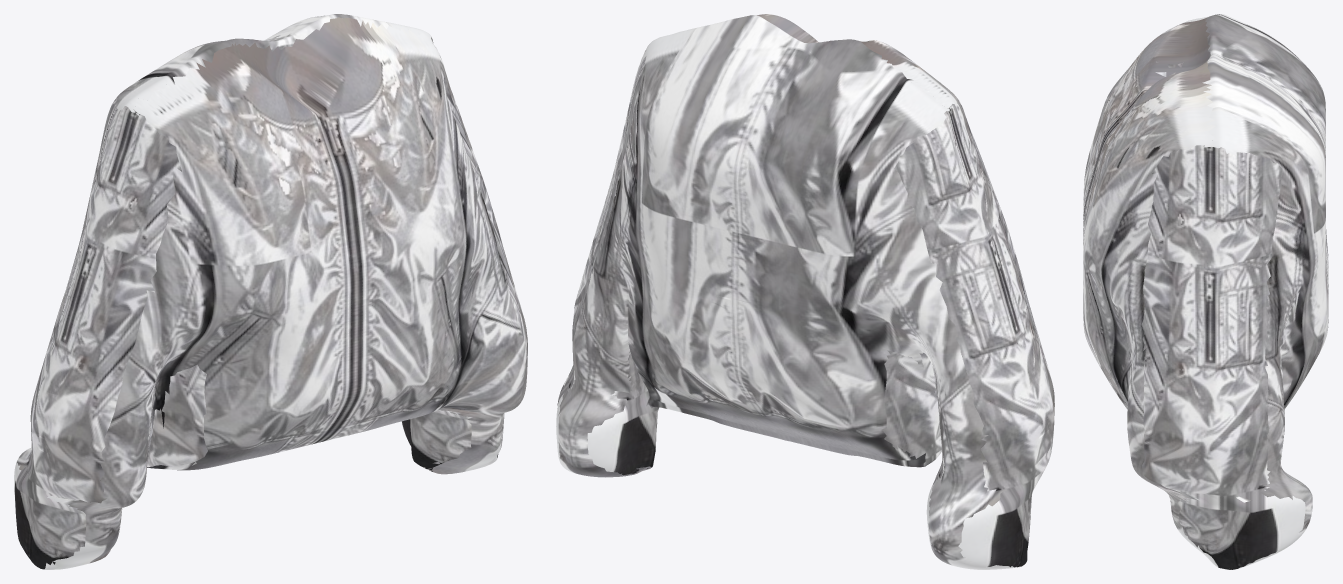
The model's file is NF002-photo-v4.glb.
3 views of the same model, side by side, from view 1: azimuth 30°, elevation 25°; view 2: azimuth 150°, elevation 25°; view 3: azimuth 270°, elevation 25° (orthographic). The views are drawn at different scales.
Parts seen in each view (by area): view 1: NF002_worn_photo_fitted; view 2: NF002_worn_photo_fitted; view 3: NF002_worn_photo_fitted.
Boxes of the visible parts, x1=… form: NF002_worn_photo_fitted: x1=14, y1=14, x2=527, y2=569; NF002_worn_photo_fitted: x1=556, y1=14, x2=1054, y2=569; NF002_worn_photo_fitted: x1=1083, y1=14, x2=1328, y2=569.
Bounding box in the file's own units: 0.6289 × 0.616 × 0.3143.
Materials: 3 (3 with a texture image).
